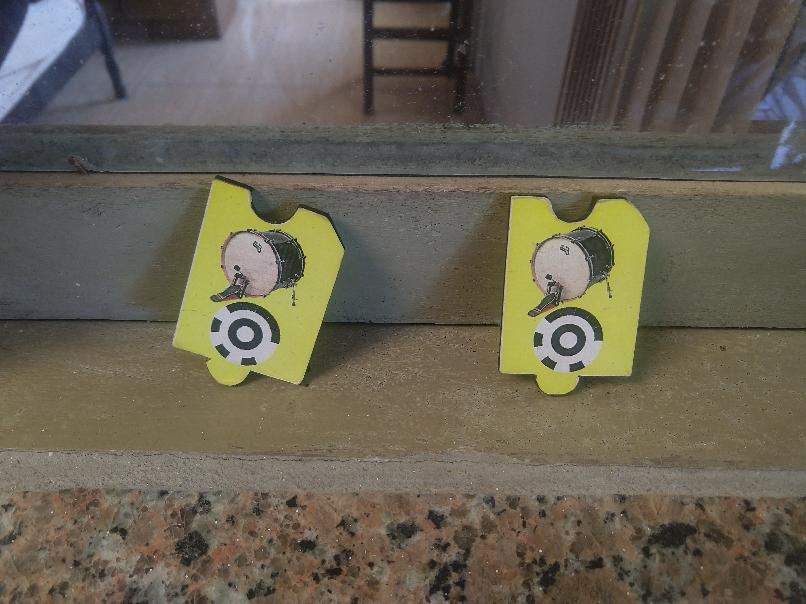bumbo: (174, 172, 342, 389), (493, 190, 652, 398)
